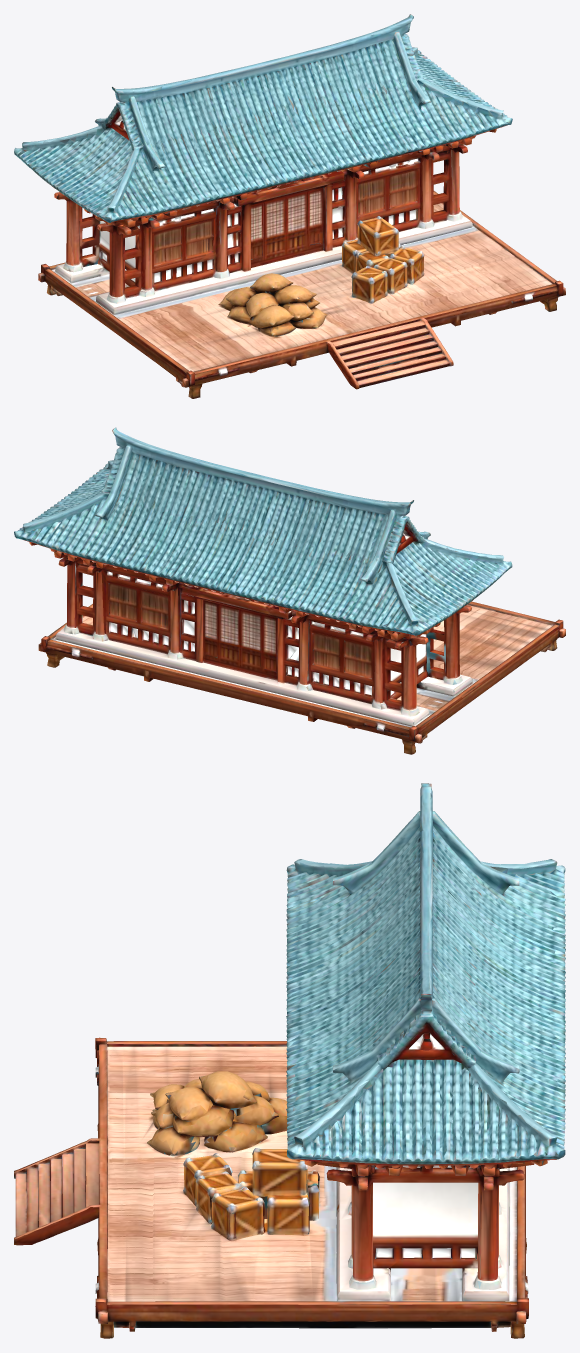
The model's file is qm_warehouse.glb.
3 views of the same model, one above another, from view 1: azimuth 30°, elevation 25°; view 2: azimuth 150°, elevation 25°; view 3: azimuth 270°, elevation 25° (orthographic). The views are drawn at different scales.
Visible parts, largest first — view 1: qm_warehouse; view 2: qm_warehouse; view 3: qm_warehouse.
Boxes of the visible parts, x1=… form: qm_warehouse: x1=14, y1=14, x2=565, y2=398; qm_warehouse: x1=14, y1=427, x2=565, y2=754; qm_warehouse: x1=14, y1=783, x2=565, y2=1338.
Bounding box in the file's own units: 13.5 × 7 × 10.86.
1 material, 1 textured.
